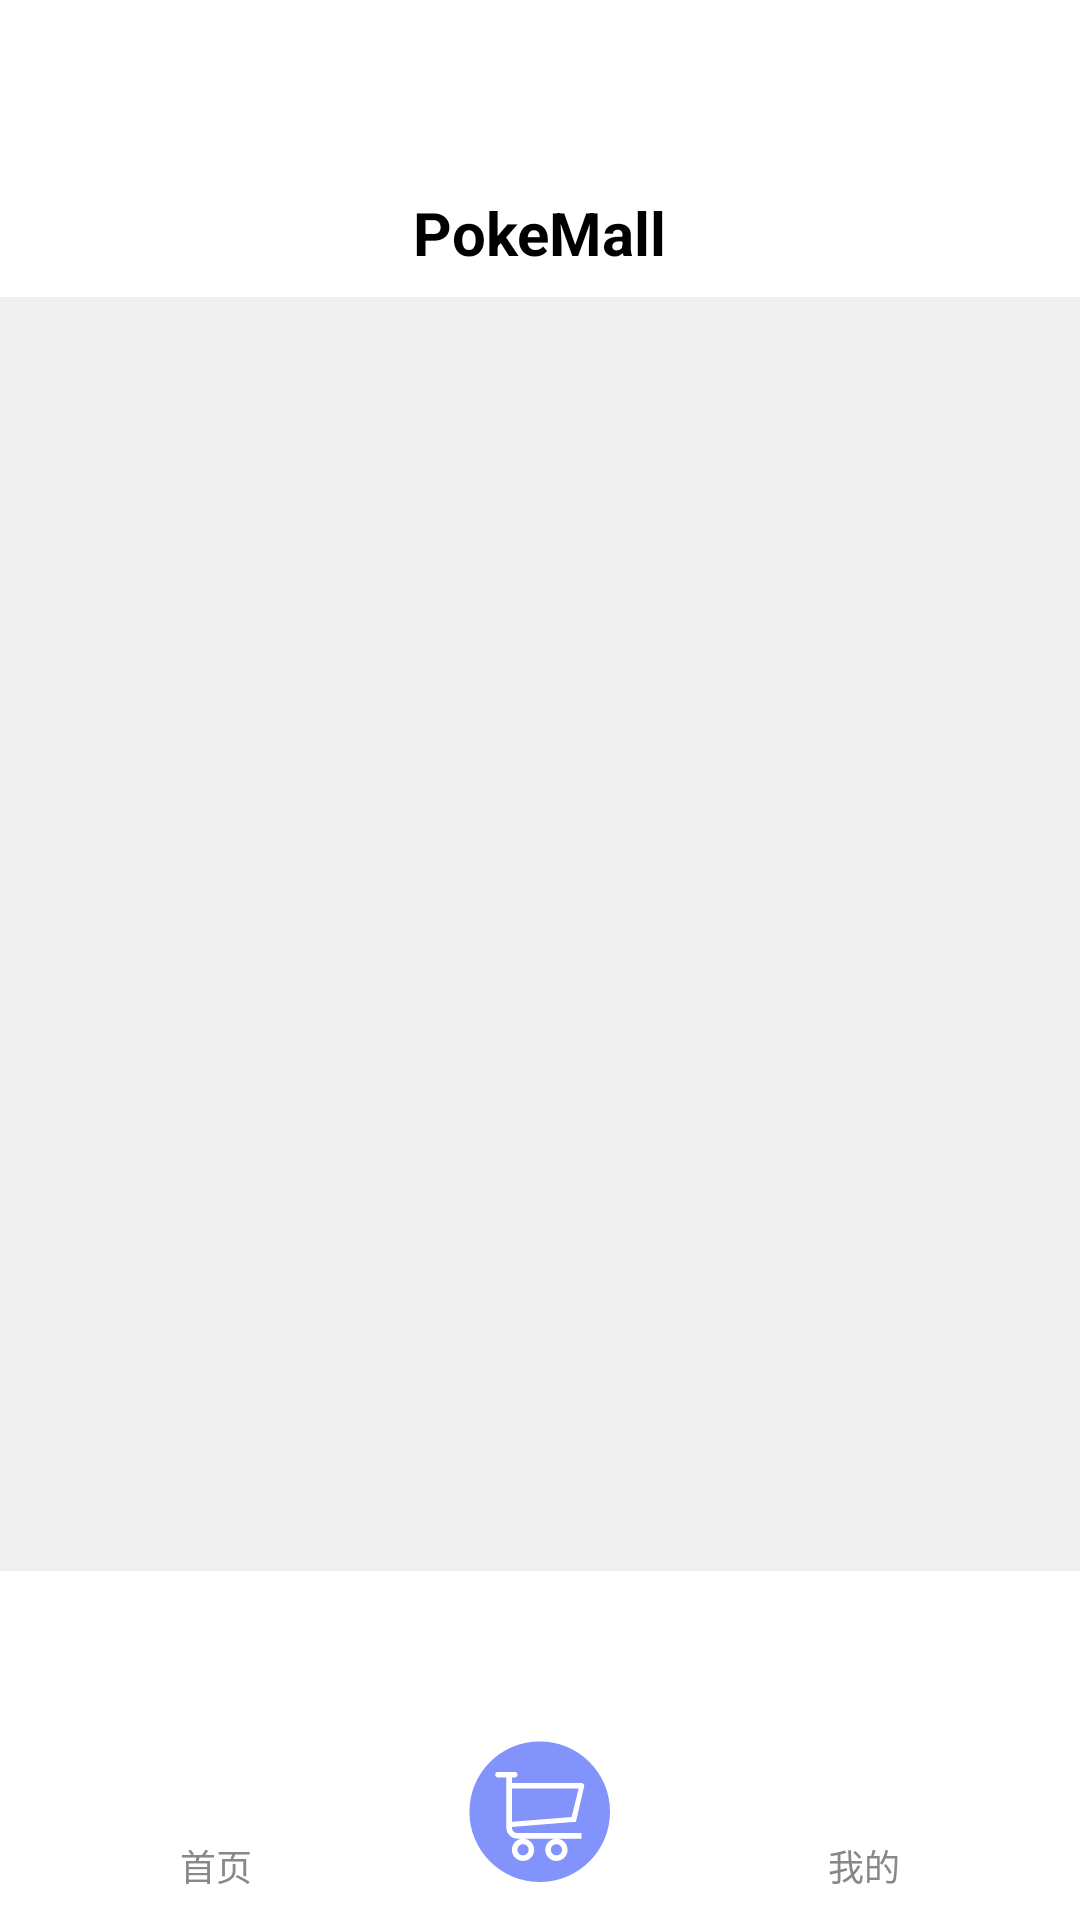

Point at icon controls on the screen. Image size 1080px x 1920px, points as (x=x, y=y).
cart: (x=539, y=1811)
